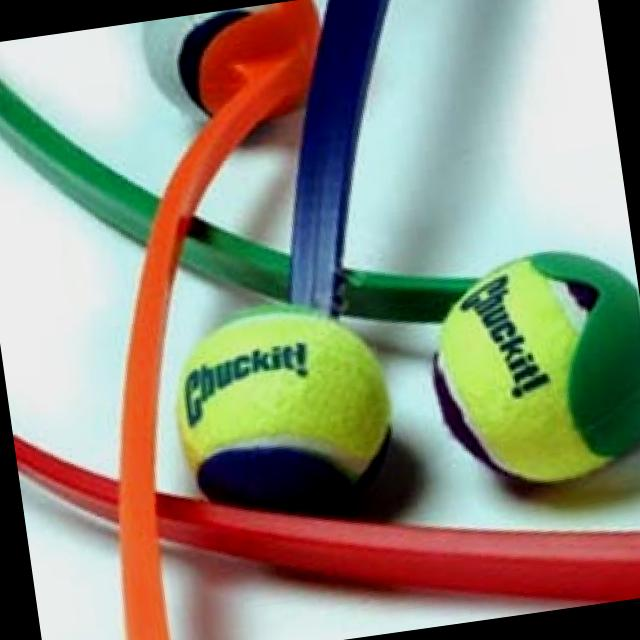Tennis Ball: (431, 252, 640, 489), (170, 303, 394, 517)
